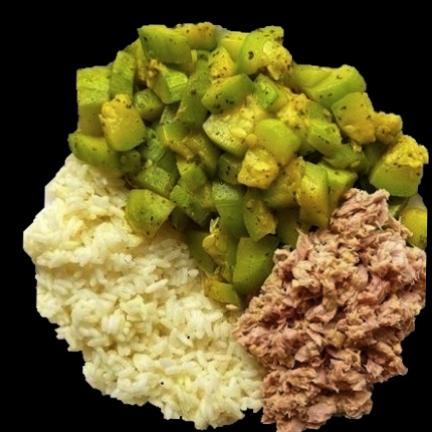chicken: (235, 189, 426, 431)
green_vegetables: (68, 23, 428, 304)
rice: (23, 156, 264, 429)
